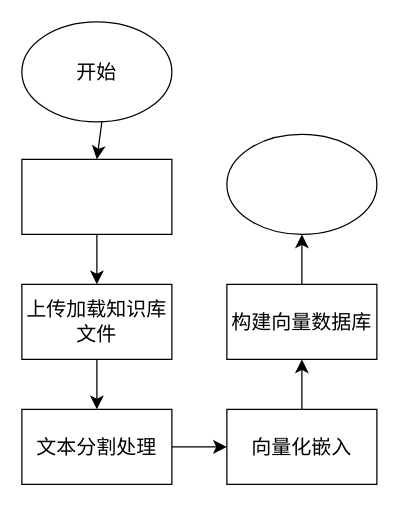
Image size: 399x506. Some labels were removed from this diagram. The shapes that lost their labels are listed below. From the top down, each one's box as (x1, y1, x2, y2) in pixels, then its label:
(21, 158, 172, 234): 知识库准备
(226, 133, 377, 234): 结束
